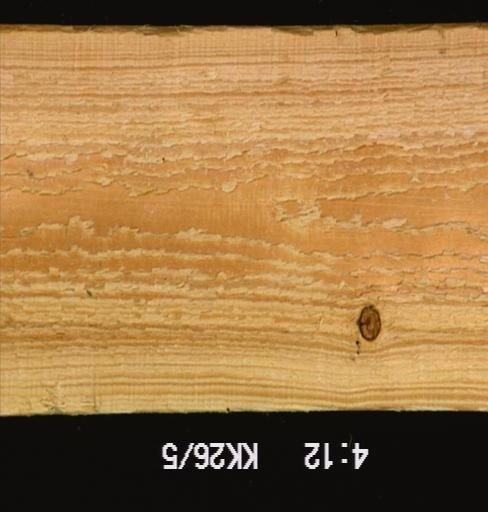dry_knot: (355, 303, 383, 343)
wave: (0, 25, 486, 47)
